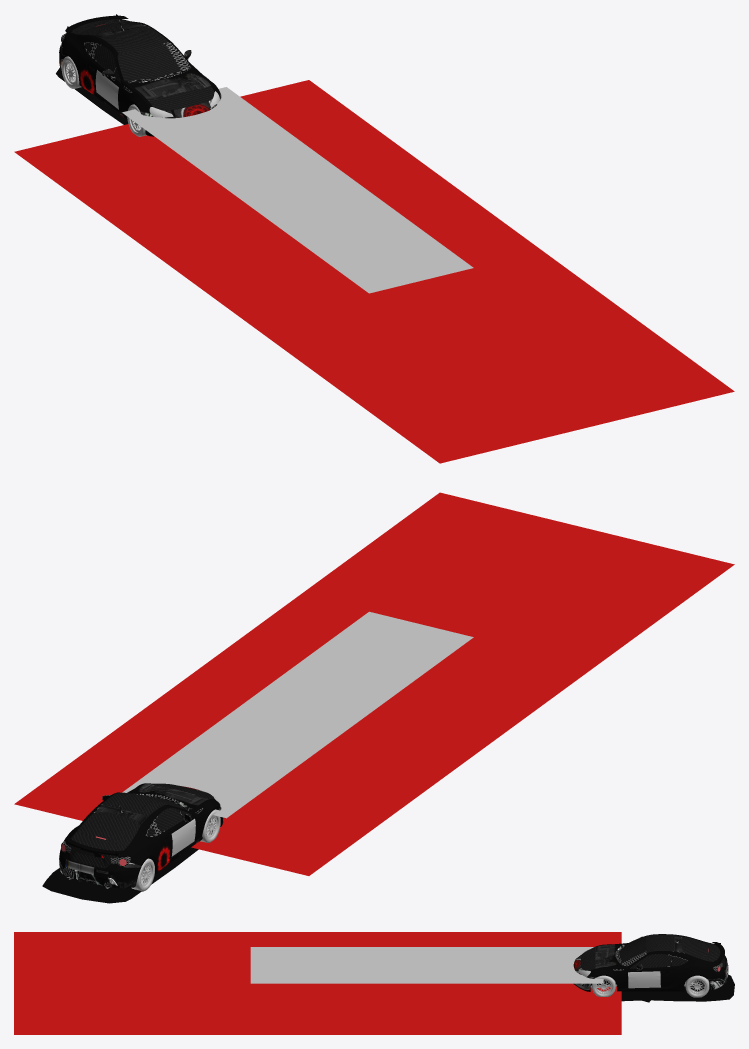
The model's file is car31.fbx.
The picture shows the model from 3 angles, top to bottom: view 1: azimuth 30°, elevation 25°; view 2: azimuth 150°, elevation 25°; view 3: azimuth 270°, elevation 25°; orthographic projection. The views are drawn at different scales.
Parts seen in each view (by area): view 1: light_ground, far_lights, brz; view 2: light_ground, far_lights, brz, shadow_car; view 3: light_ground, far_lights, brz, shadow_car, decalSide, wheel_RL, wheel_FL.
Boxes of the visible parts, box(x1,y1,x2,y2) form: light_ground: box(14, 80, 734, 463); far_lights: box(122, 87, 473, 293); brz: box(59, 14, 221, 136); light_ground: box(14, 492, 734, 875); far_lights: box(122, 611, 473, 818); brz: box(59, 783, 223, 889); shadow_car: box(42, 847, 198, 903); light_ground: box(14, 932, 621, 1034); far_lights: box(250, 947, 603, 983); brz: box(573, 934, 728, 991); shadow_car: box(621, 974, 734, 1002); decalSide: box(628, 971, 660, 988); wheel_RL: box(685, 975, 709, 997); wheel_FL: box(592, 975, 615, 996).
Bounding box in the file's own units: 47.24 × 10.25 × 140.
